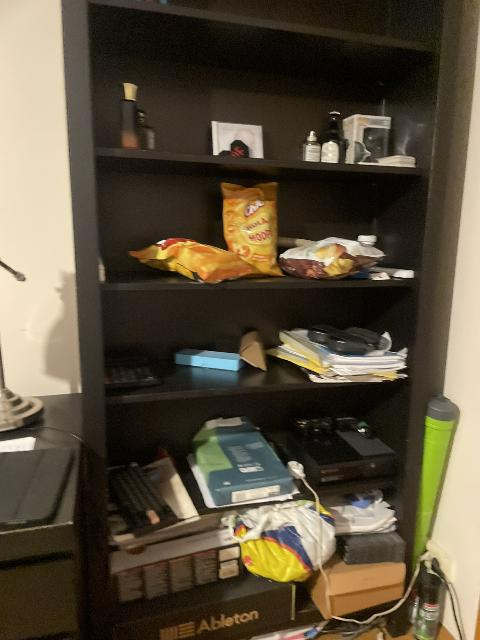Chio Cascaval 125g: (129, 237, 268, 283)
Chio Hula Hoops Cheese 70g: (220, 180, 285, 279)
Lays Beef Grilled Ribs 125g: (276, 236, 385, 280)
